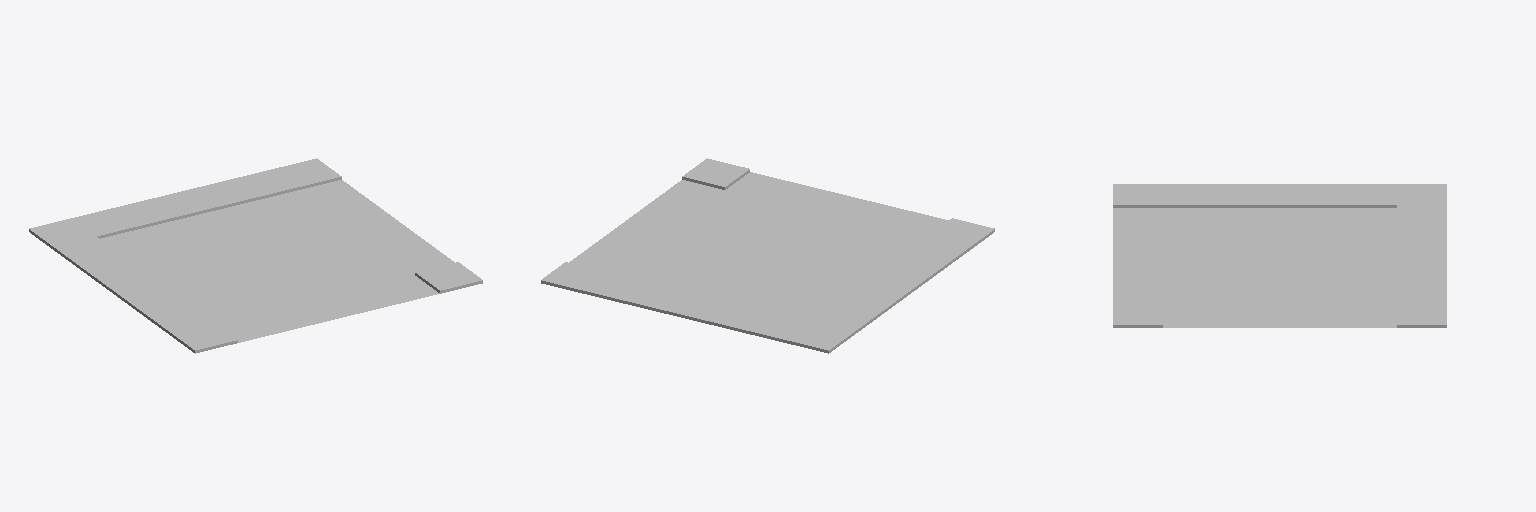
Rendered from Road Corner_01.obj.
3 renders of one model, left to right at view 1: azimuth 30°, elevation 25°; view 2: azimuth 150°, elevation 25°; view 3: azimuth 270°, elevation 25°, orthographic.
Visible parts, largest first — view 1: Road_Corner_01; view 2: Road_Corner_01; view 3: Road_Corner_01.
Boxes of the visible parts, box(x1,y1,x2,y2) form: Road_Corner_01: box(29, 158, 482, 353); Road_Corner_01: box(541, 158, 994, 353); Road_Corner_01: box(1113, 184, 1446, 327).
Bounding box in the file's own units: 787 × 7.87 × 787.